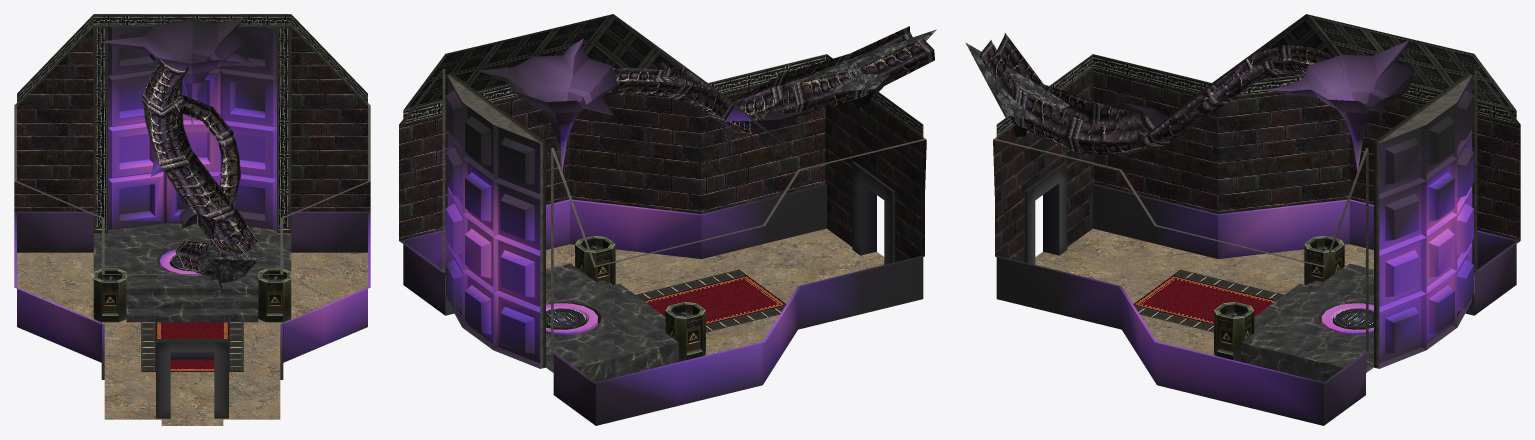
3 renders of one model, left to right at view 1: azimuth 30°, elevation 25°; view 2: azimuth 150°, elevation 25°; view 3: azimuth 270°, elevation 25°, orthographic. The views are drawn at different scales.
Visible parts, largest first — view 1: node-00F17A9C, node-03A90D9F, node-03454FA3, node-00EE32E2, node-02F77113, node-024EE81C, node-035E19CA, node-00D76FC9, node-01409712, node-016FCCC3, node-004AC747, node-02B2F9B2 (+3 smaller); view 2: node-00F17A9C, node-00EE32E2, node-03A90D9F, node-03454FA3, node-024EE81C, node-02F77113, node-02A10183, node-00D76FC9, node-005FC9FA, node-01409712, node-004AC747, node-035E19CA (+5 smaller); view 3: node-00F17A9C, node-00EE32E2, node-03A90D9F, node-024EE81C, node-03454FA3, node-02F77113, node-02A10183, node-00D76FC9, node-005FC9FA, node-035E19CA, node-01409712, node-004AC747 (+5 smaller).
Part boxes in pixels (left/top/right/bottom): node-00F17A9C: left=14, top=27, right=370, bottom=364; node-03A90D9F: left=108, top=27, right=276, bottom=230; node-03454FA3: left=17, top=252, right=367, bottom=425; node-00EE32E2: left=14, top=211, right=370, bottom=379; node-02F77113: left=93, top=223, right=291, bottom=322; node-024EE81C: left=142, top=59, right=257, bottom=277; node-035E19CA: left=17, top=14, right=367, bottom=232; node-00D76FC9: left=98, top=17, right=256, bottom=228; node-01409712: left=93, top=268, right=291, bottom=322; node-016FCCC3: left=156, top=339, right=228, bottom=418; node-004AC747: left=156, top=322, right=228, bottom=371; node-02B2F9B2: left=141, top=322, right=243, bottom=371; node-00F17A9C: left=399, top=84, right=926, bottom=262; node-00EE32E2: left=399, top=184, right=924, bottom=425; node-03A90D9F: left=445, top=76, right=540, bottom=368; node-03454FA3: left=445, top=228, right=884, bottom=355; node-024EE81C: left=595, top=26, right=934, bottom=134; node-02F77113: left=445, top=263, right=678, bottom=382; node-02A10183: left=404, top=14, right=796, bottom=153; node-00D76FC9: left=477, top=38, right=808, bottom=170; node-005FC9FA: left=399, top=68, right=926, bottom=368; node-01409712: left=575, top=235, right=705, bottom=361; node-004AC747: left=643, top=275, right=786, bottom=324; node-035E19CA: left=403, top=54, right=923, bottom=138; node-00F17A9C: left=993, top=68, right=1520, bottom=262; node-00EE32E2: left=995, top=183, right=1519, bottom=425; node-03A90D9F: left=1379, top=76, right=1473, bottom=368; node-024EE81C: left=980, top=33, right=1343, bottom=155; node-03454FA3: left=1035, top=228, right=1474, bottom=355; node-02F77113: left=1241, top=263, right=1474, bottom=382; node-02A10183: left=1124, top=14, right=1515, bottom=152; node-00D76FC9: left=1121, top=40, right=1413, bottom=171; node-005FC9FA: left=993, top=68, right=1520, bottom=368; node-035E19CA: left=996, top=54, right=1516, bottom=138; node-01409712: left=1214, top=236, right=1344, bottom=361; node-004AC747: left=1133, top=275, right=1275, bottom=324.
Bounding box in the file's own units: 592 × 364 × 692.
